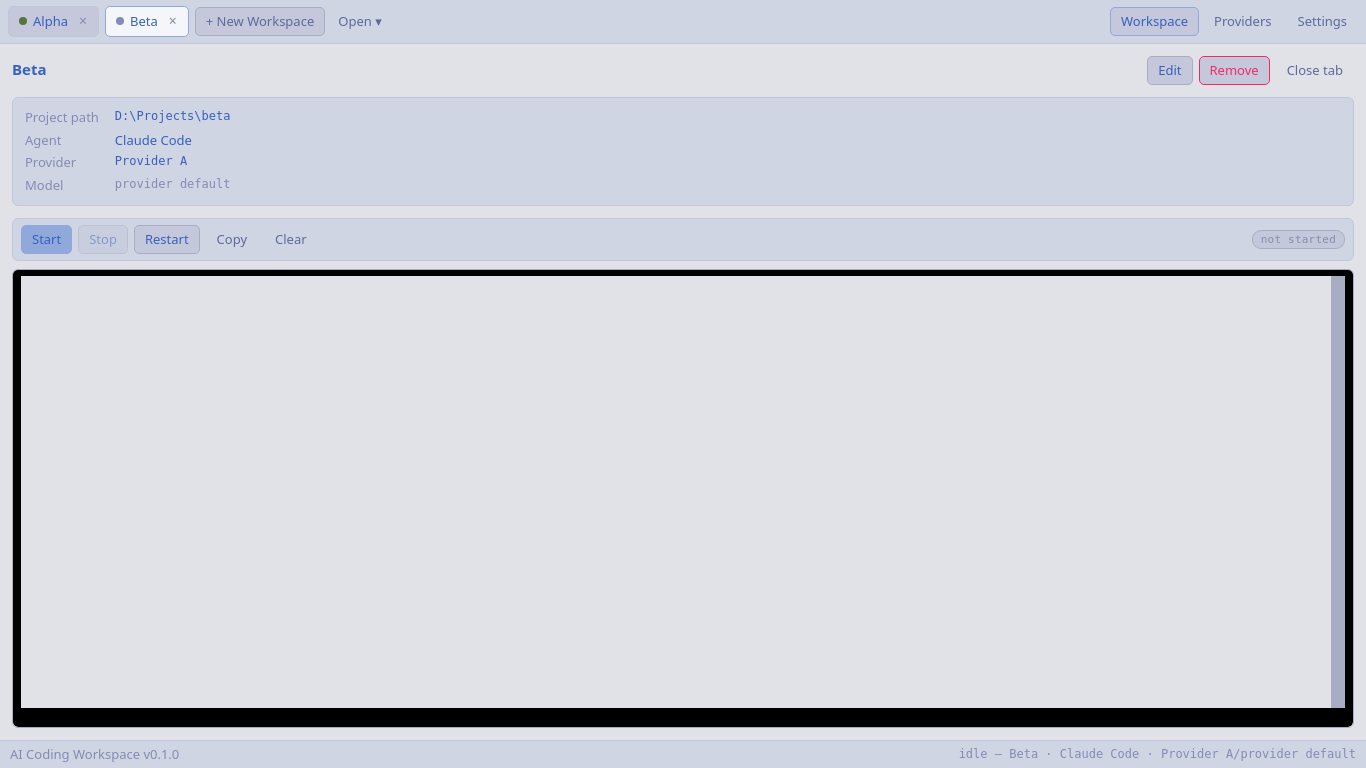
Test case: closing a tab with a running session › asks before discarding the session, naming the tab it is about
Step 1. Click the button named "Close Alpha" → {"x": 83, "y": 21}, box [74,12,92,30]
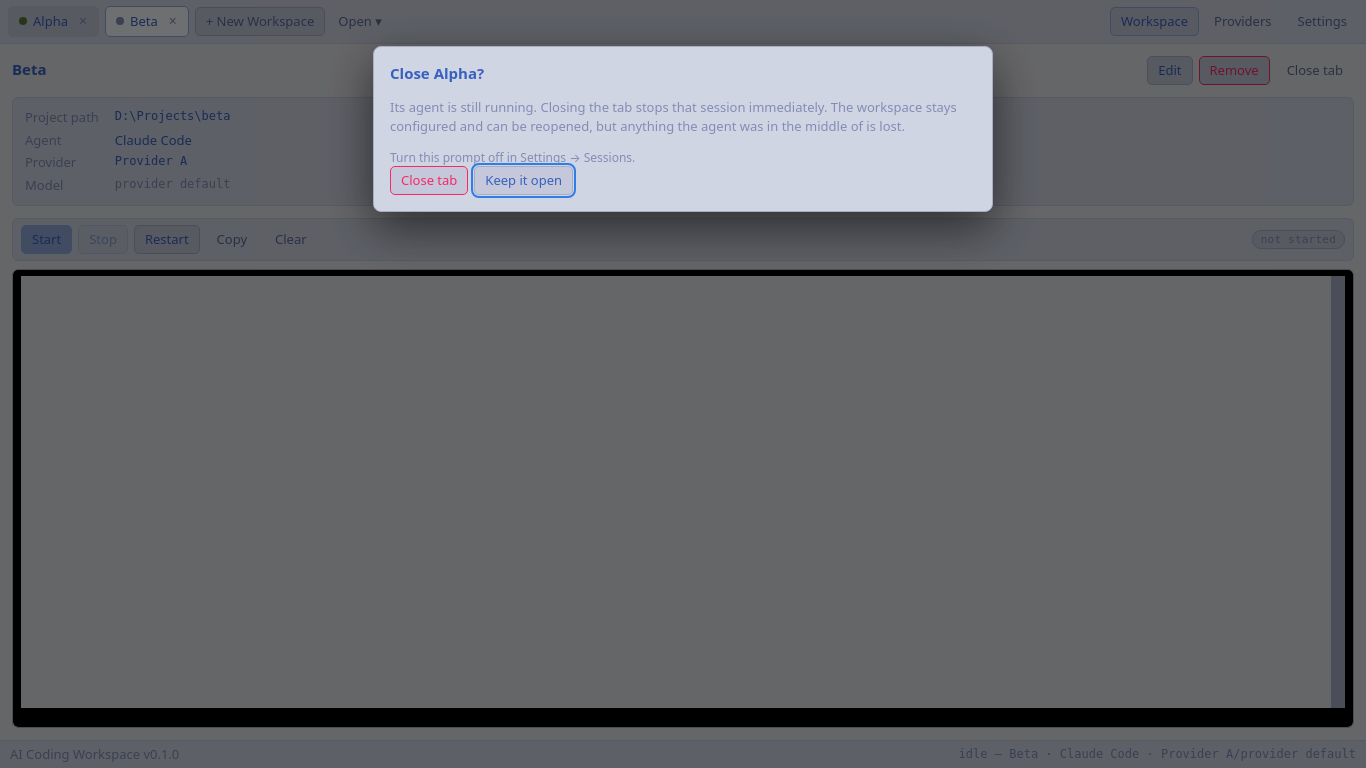
Expected: the dialog named "Close running session" is shown, [373,46,993,212]
Expected: the heading "Close Alpha?" is shown, [390,63,484,83]
Expected: the dialog named "Close running session" shows "still running", [390,98,957,135]
